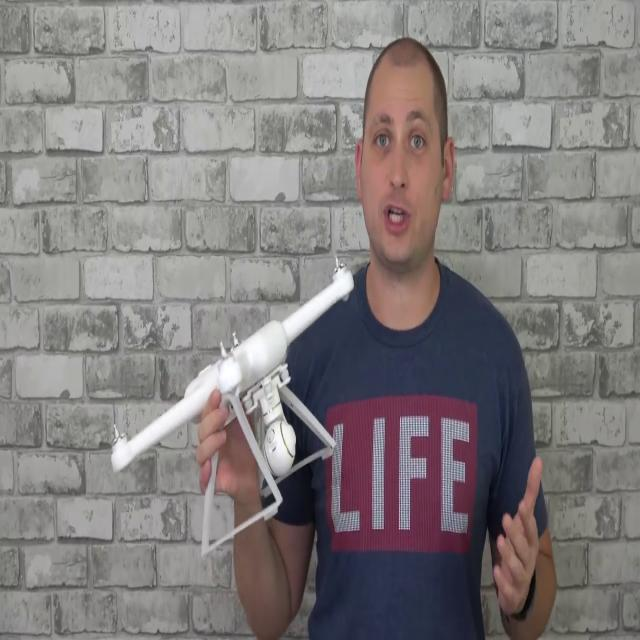drone: (105, 246, 358, 502)
